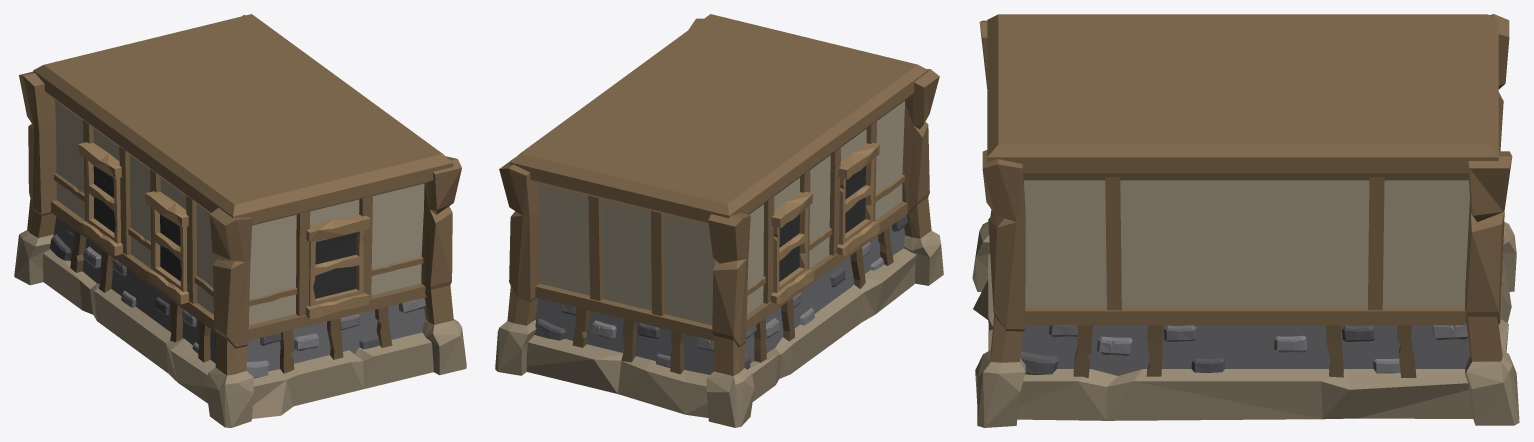
Rendered from SM_Bld_House_Foundation_03.gltf.
The picture shows the model from 3 angles, left to right: view 1: azimuth 30°, elevation 25°; view 2: azimuth 150°, elevation 25°; view 3: azimuth 270°, elevation 25°; orthographic projection. The views are drawn at different scales.
Visible parts, largest first — view 1: SM_Bld_House_Foundation_03; view 2: SM_Bld_House_Foundation_03; view 3: SM_Bld_House_Foundation_03.
Part boxes in pixels (x1=…): SM_Bld_House_Foundation_03: x1=14, y1=14, x2=466, y2=427; SM_Bld_House_Foundation_03: x1=495, y1=14, x2=943, y2=427; SM_Bld_House_Foundation_03: x1=972, y1=14, x2=1519, y2=427.
Size of the model in its own units: 3.43 by 2.81 by 5.12.
1 material, 1 textured.
